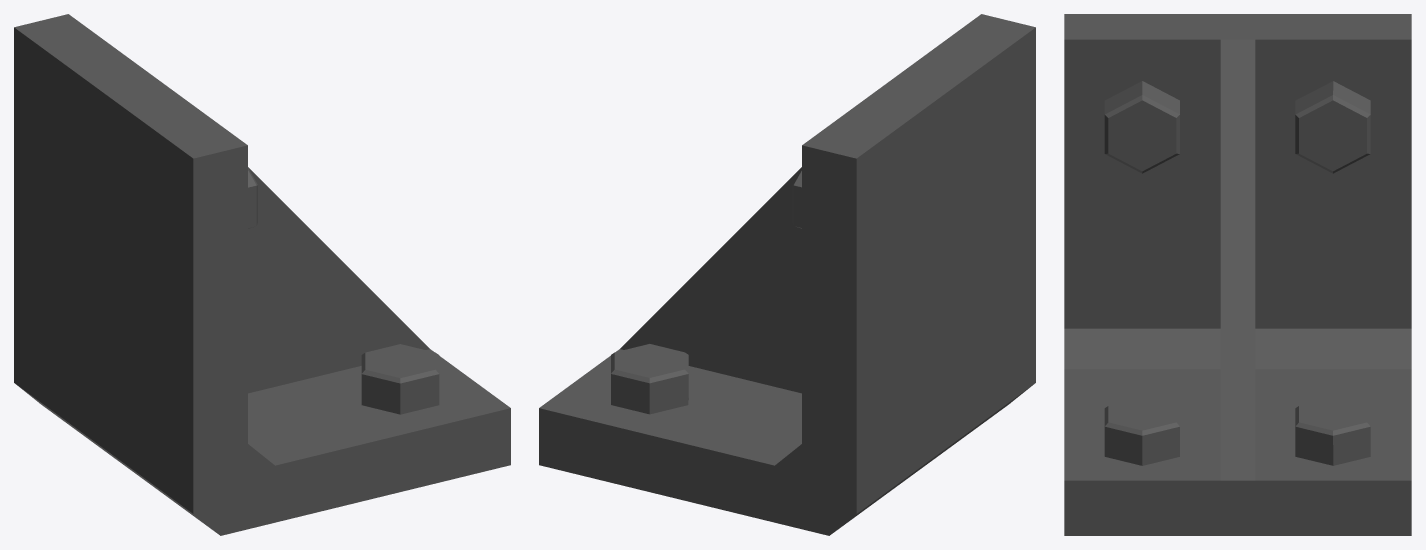
File: tomegu.fbx
3 renders of one model, left to right at view 1: azimuth 30°, elevation 25°; view 2: azimuth 150°, elevation 25°; view 3: azimuth 270°, elevation 25°, orthographic. The views are drawn at different scales.
Parts seen in each view (by area): view 1: tomegu; view 2: tomegu; view 3: tomegu.
Part boxes in pixels (bbox=[...]): tomegu: bbox=[14, 14, 510, 535]; tomegu: bbox=[539, 14, 1035, 535]; tomegu: bbox=[1064, 14, 1411, 535].
Size of the model in its own units: 0.2913 by 0.3366 by 0.2852.
Materials: 1 (1 with a texture image).
